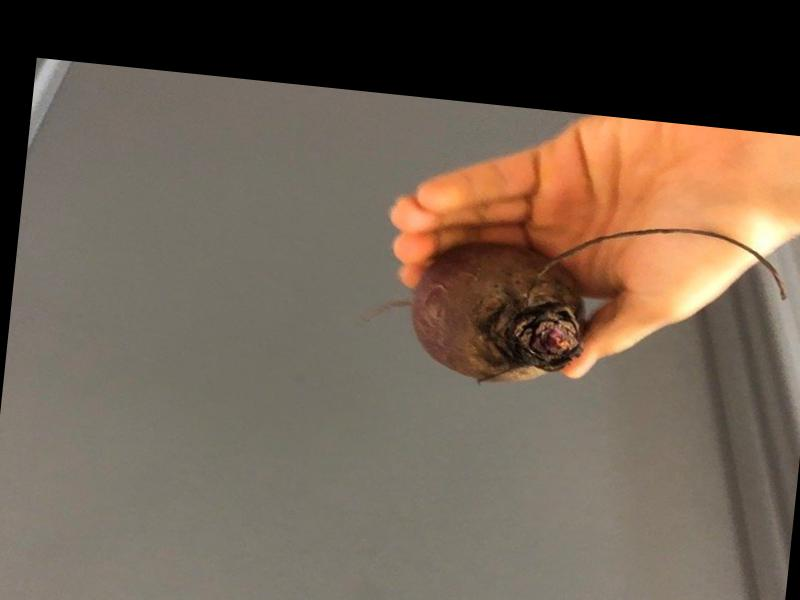Beet: (357, 194, 789, 409)
